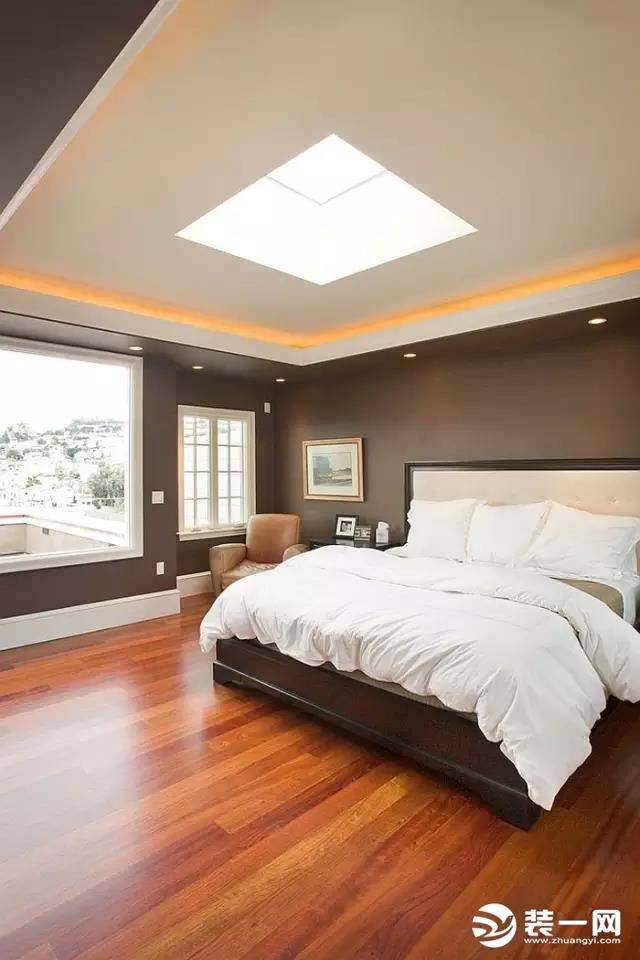床: (226, 551, 637, 824)
枕头: (402, 491, 629, 587)
灯: (166, 136, 478, 292), (585, 314, 612, 330), (186, 360, 212, 376), (398, 350, 422, 366), (125, 340, 148, 356), (270, 375, 293, 390)
